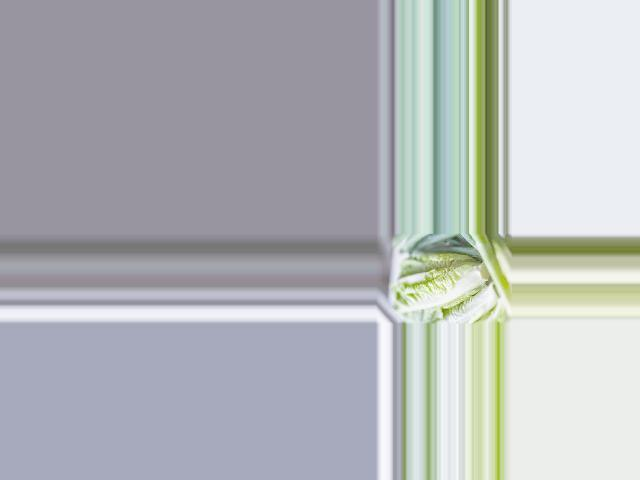lettuce: (391, 251, 489, 313)
